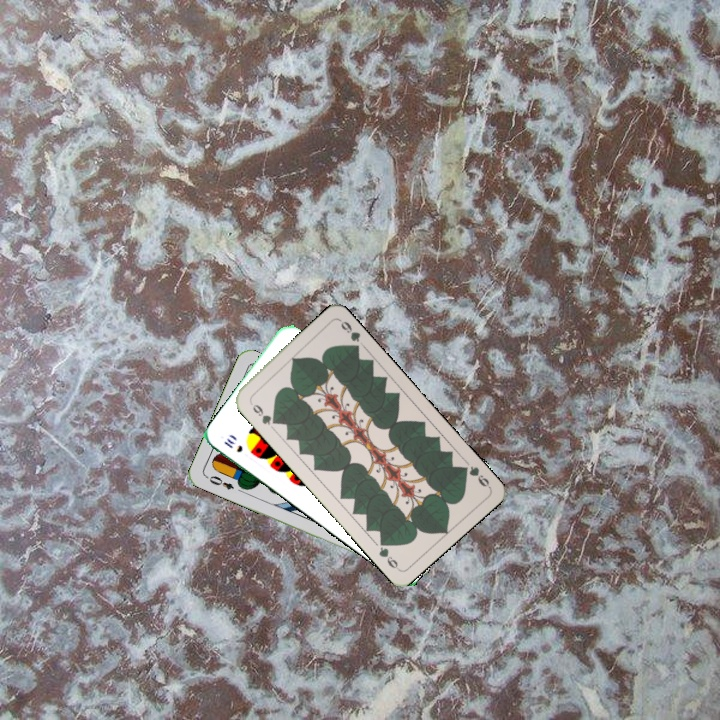EO: (202, 471, 237, 492)
G9: (246, 397, 280, 428), (456, 462, 493, 490)
S10: (220, 434, 245, 455)
